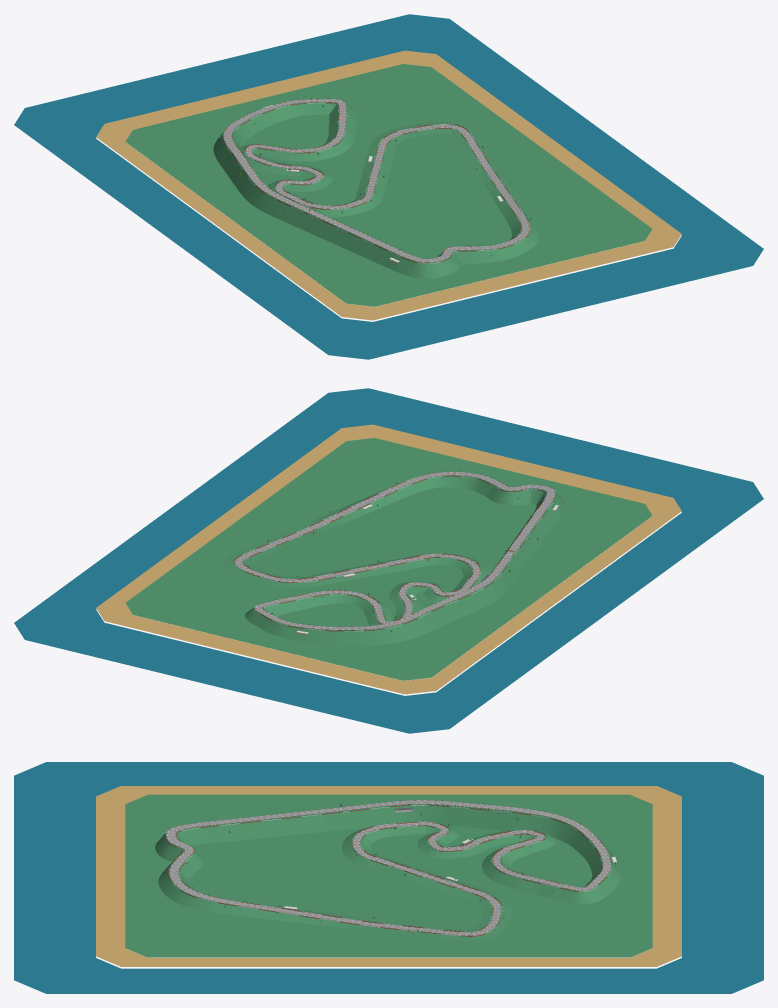
The model's file is interlagos.glb.
3 views of the same model, one above another, from view 1: azimuth 30°, elevation 25°; view 2: azimuth 150°, elevation 25°; view 3: azimuth 270°, elevation 25° (orthographic). The views are drawn at different scales.
Parts seen in each view (by area): view 1: ocean, island_vegetation, sand_island, track_embankment, track_surface, track_runoff, continuous_safety_barriers, track_curbs; view 2: ocean, island_vegetation, sand_island, track_embankment, track_surface, track_runoff, continuous_safety_barriers, track_curbs; view 3: ocean, island_vegetation, track_embankment, sand_island, track_surface, track_runoff, continuous_safety_barriers, track_curbs, continuous_catch_fence.
Part boxes in pixels (left/top/right/bottom): ocean: left=14, top=14, right=763, bottom=359; island_vegetation: left=125, top=64, right=652, bottom=306; sand_island: left=96, top=50, right=681, bottom=320; track_embankment: left=213, top=102, right=539, bottom=278; track_surface: left=225, top=99, right=527, bottom=261; track_runoff: left=223, top=99, right=529, bottom=262; continuous_safety_barriers: left=222, top=100, right=530, bottom=264; track_curbs: left=224, top=99, right=528, bottom=262; ocean: left=14, top=388, right=763, bottom=733; island_vegetation: left=125, top=438, right=652, bottom=680; sand_island: left=96, top=424, right=681, bottom=694; track_embankment: left=225, top=475, right=565, bottom=645; track_surface: left=236, top=472, right=553, bottom=629; track_runoff: left=235, top=472, right=555, bottom=629; continuous_safety_barriers: left=234, top=472, right=555, bottom=631; track_curbs: left=236, top=472, right=553, bottom=629; ocean: left=14, top=762, right=763, bottom=993; island_vegetation: left=125, top=794, right=652, bottom=957; track_embankment: left=155, top=804, right=621, bottom=941; sand_island: left=96, top=786, right=681, bottom=966; track_surface: left=168, top=800, right=609, bottom=934; track_runoff: left=166, top=800, right=611, bottom=935; continuous_safety_barriers: left=165, top=805, right=611, bottom=936; track_curbs: left=167, top=800, right=609, bottom=935; continuous_catch_fence: left=166, top=799, right=611, bottom=935.
Size of the model in its own units: 1320 by 53.92 by 1804.
